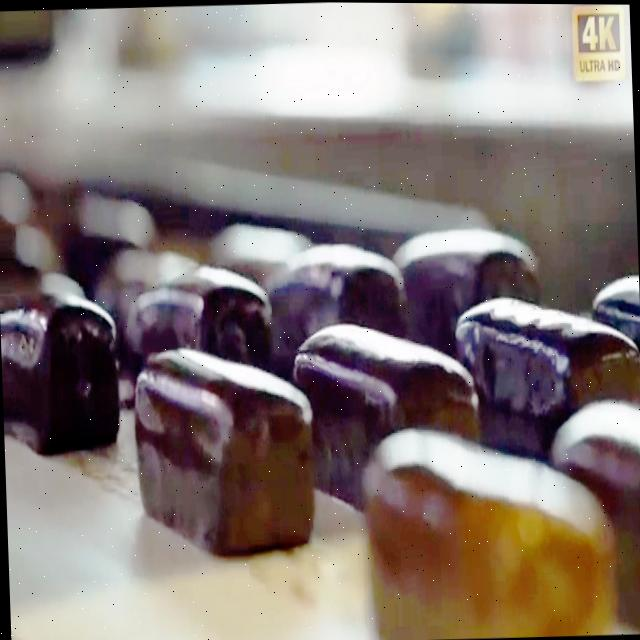Choco: (357, 416, 618, 637), (129, 335, 318, 559), (452, 285, 640, 427), (290, 311, 479, 432), (0, 282, 122, 456), (390, 217, 544, 353), (264, 236, 411, 368), (118, 261, 274, 380)
